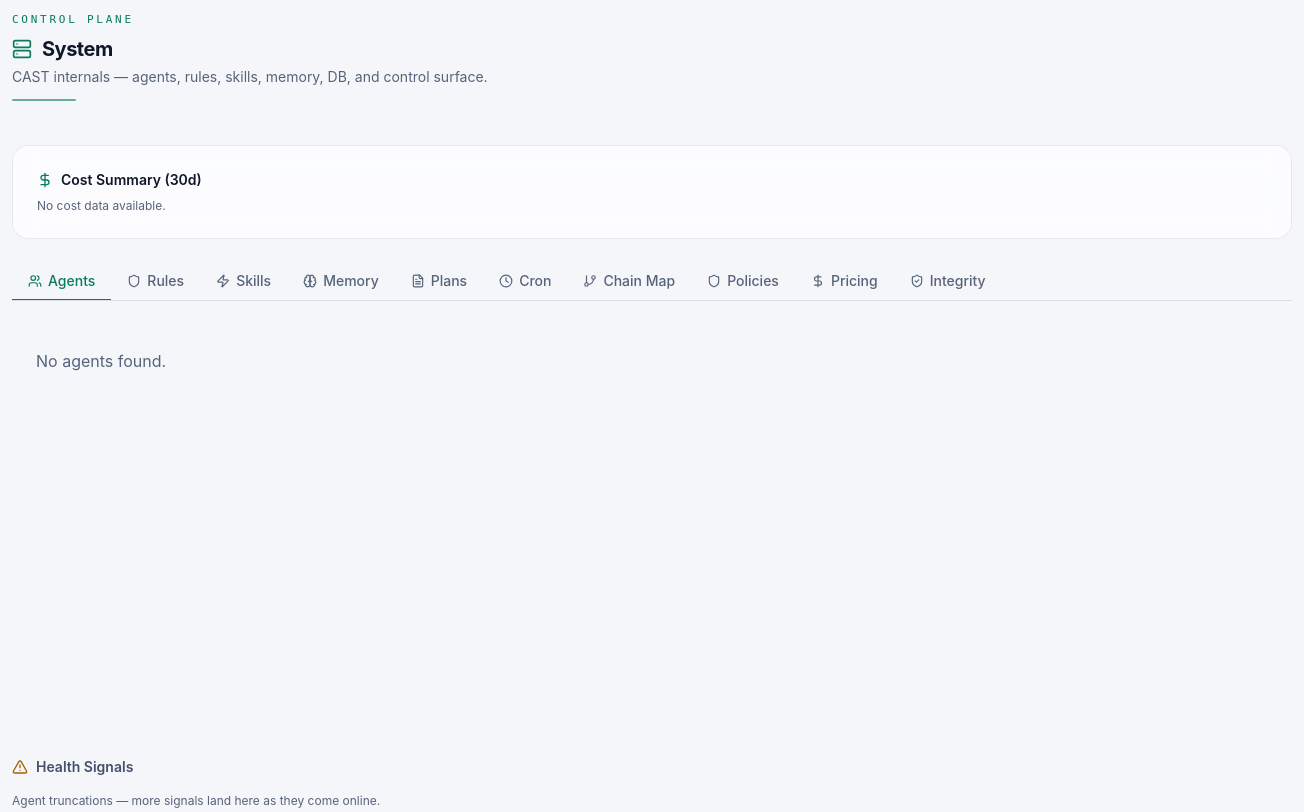
it: SystemView — Pricing tab field mapping (regression: "$--" shown for all models) › renders actual price values (not "$--") when model-pricing uses cost_per_million_* fields
// Navigate to the Pricing tab
Click the tab "Pricing" at x=844, y=282, box [795, 262, 894, 300]
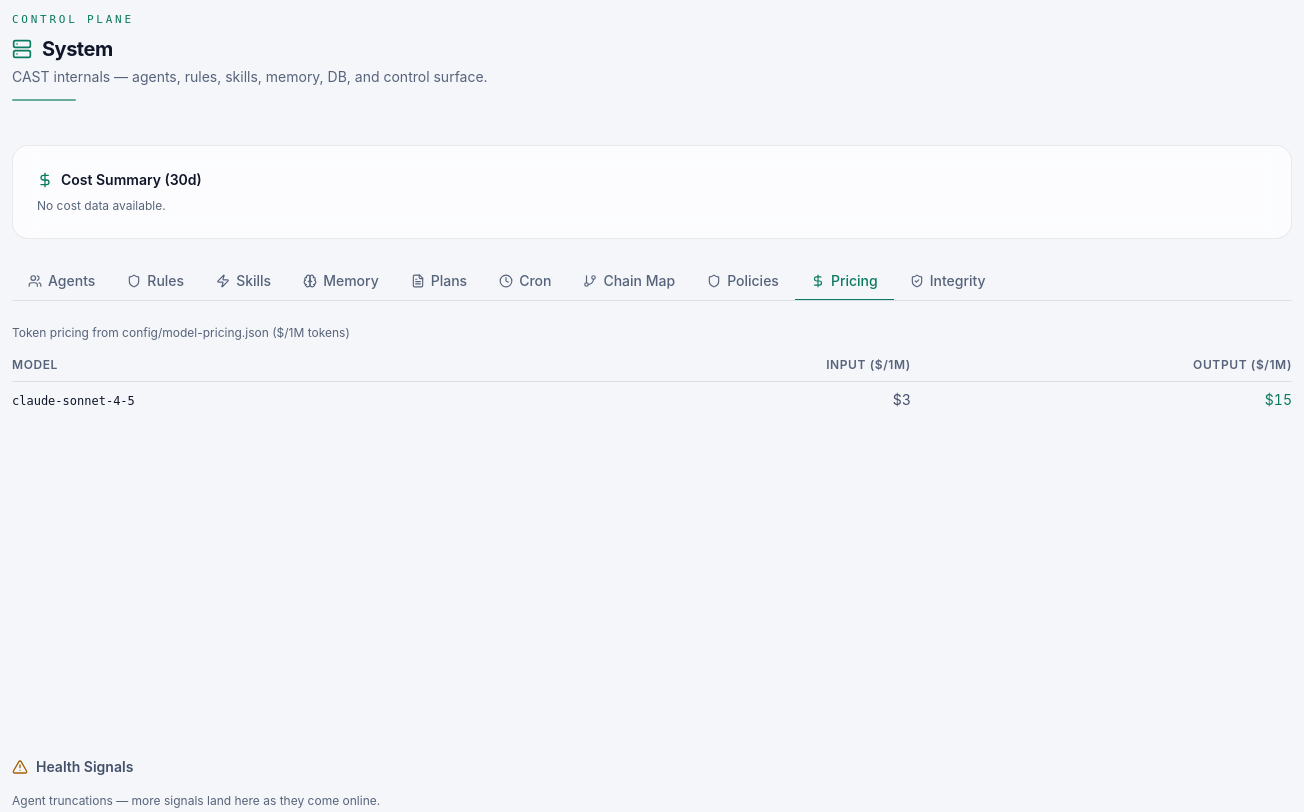
Check: the text "claude-sonnet-4-5" is shown, box [12, 394, 135, 408]
Check: the text "$3" is shown, box [542, 381, 935, 418]
Check: the text "$15" is shown, box [935, 381, 1292, 418]
